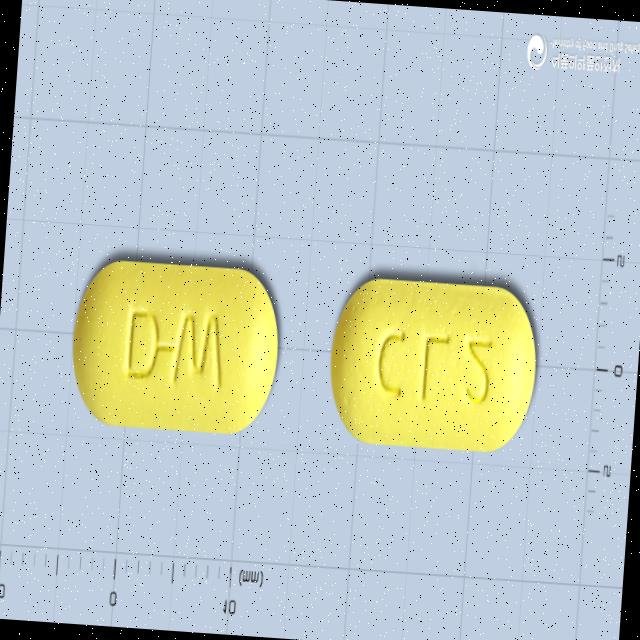Clearmycin - 250mg: (66, 256, 284, 439), (324, 276, 540, 457)
